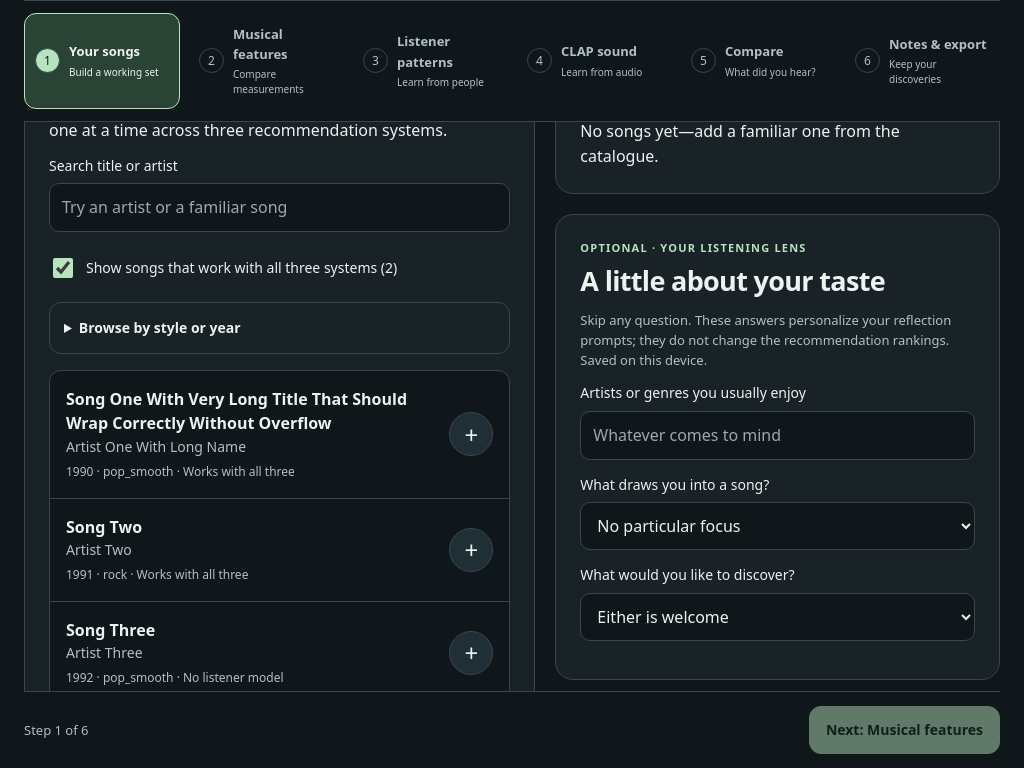
Shared song listening workshop › survey supplies listening prompts without adding ranking preferences
(page scrolled)
Step 1. Click the button named "Add " → [471, 434], box [449,412,493,456]
(page scrolled)
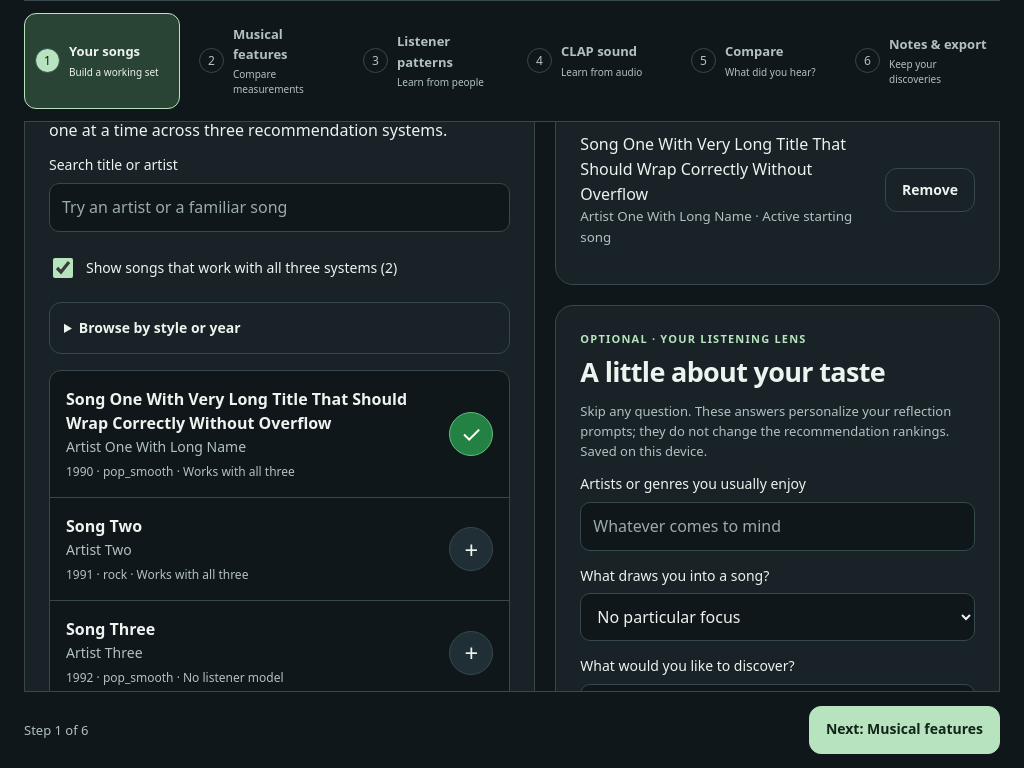
Step 2. Click the button named "Add " → [471, 549], box [449,527,493,571]
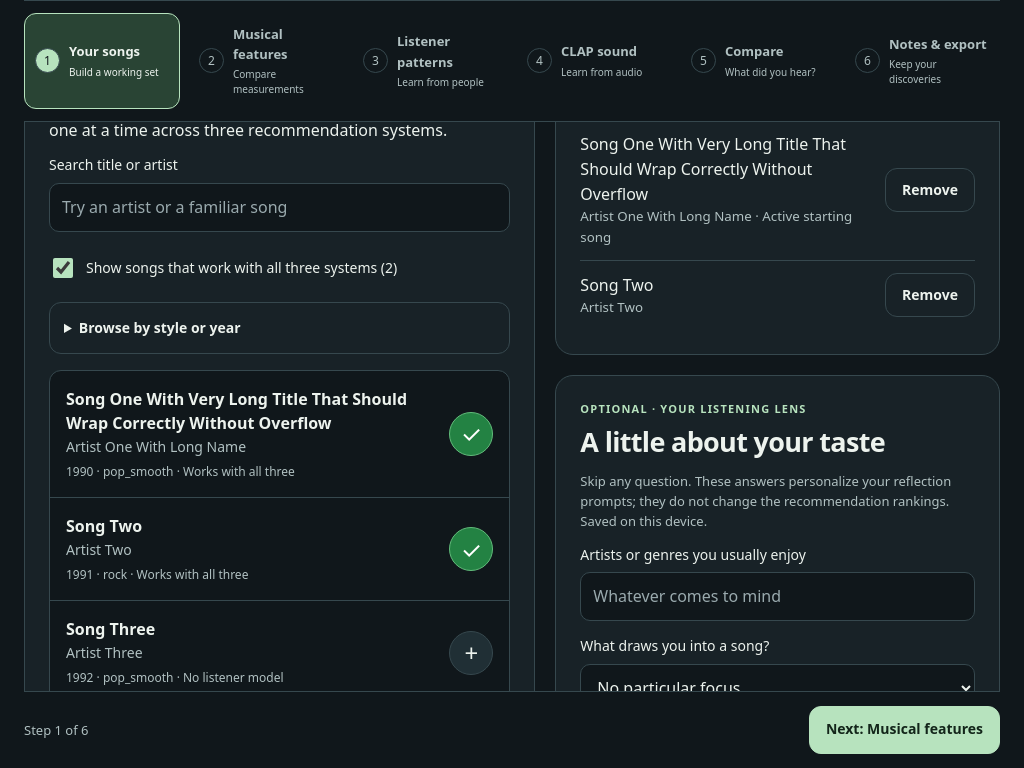
Step 3. Select "Rhythm" in the dropdown labelled "What draws you into a song?" → [778, 688], box [580,664,975,712]
Step 4. Type "Soul" into the field labelled "Artists or genres you usually enjoy" → [778, 597], box [580,572,975,621]
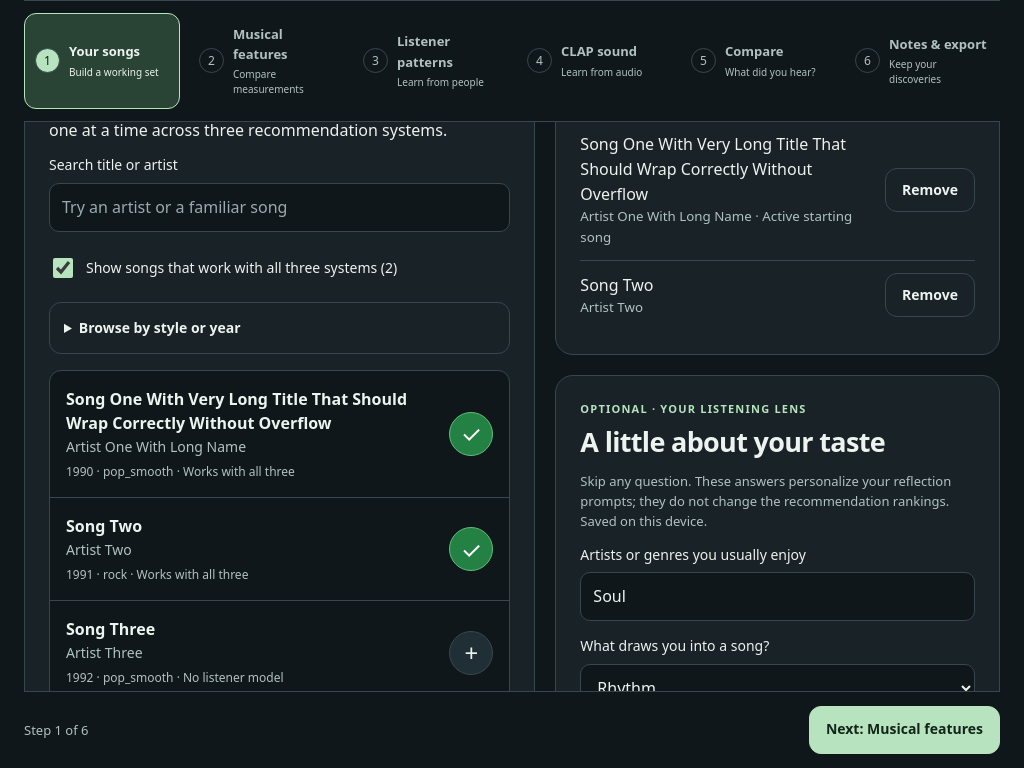
Step 5. Click the button "2 Musical features Compare measurements" → [266, 61], box [188,13,344,109]
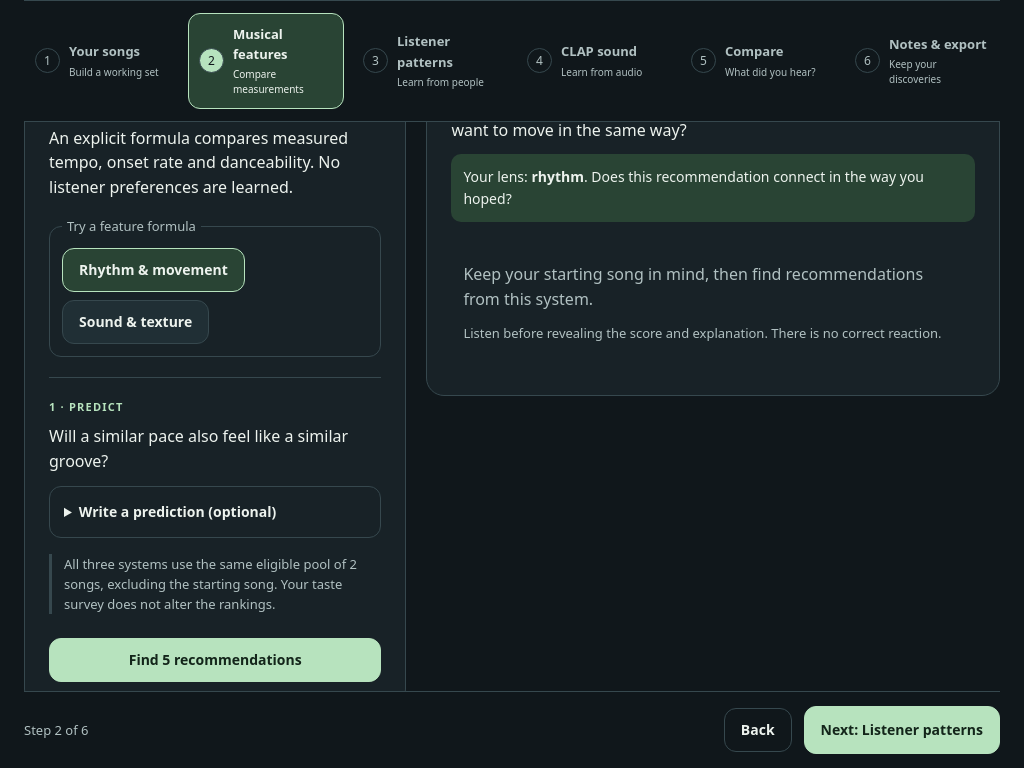
Expected: the text "Your lens:" shows "rhythm", [531,167,584,186]
Expected: the button "Find 5 recommendations" is enabled
Step 6. Click the button "Find 5 recommendations" → [215, 660], box [49,638,381,682]
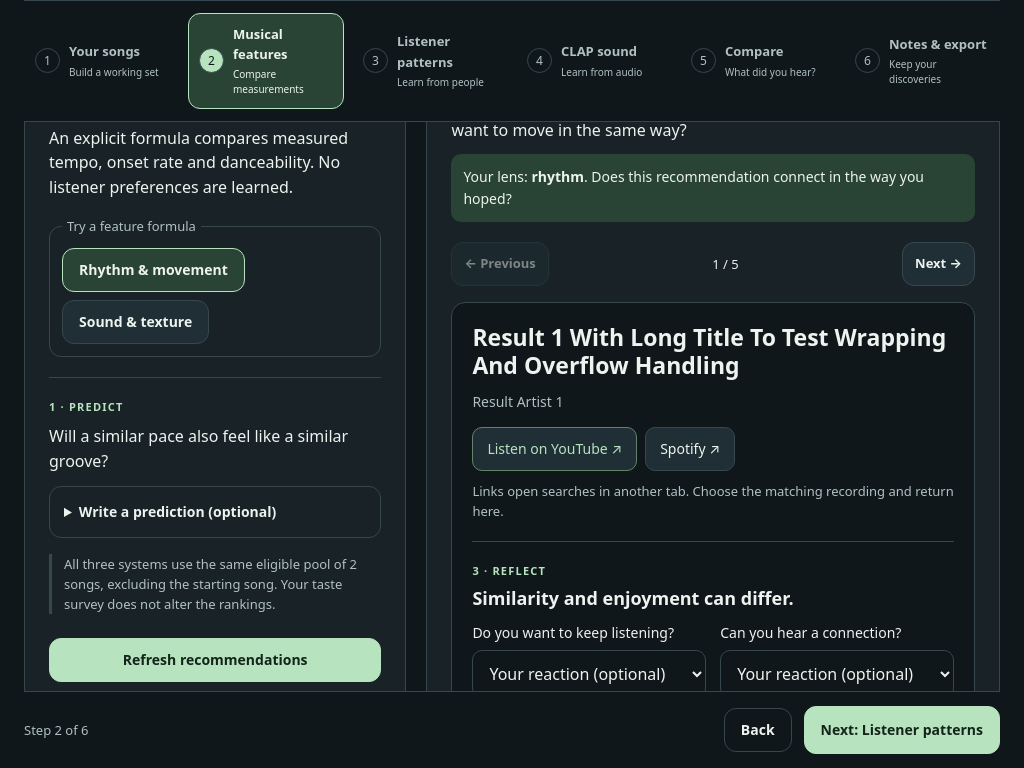
Expected: the heading "Result 1 With Long Title" is shown, [472,323,954,379]
Step 7. Click the button "5 Compare What did you hear?" → [758, 61], box [680,13,836,109]
(page scrolled)
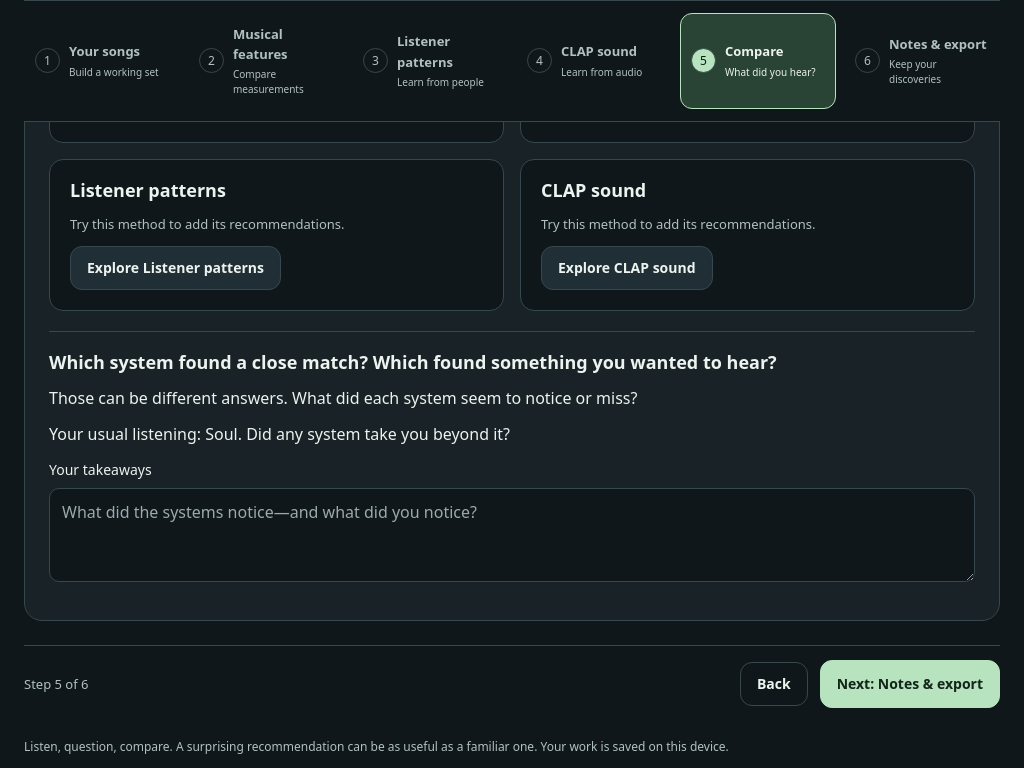
Expected: the text "Your usual listening: Soul" is shown, [49,424,510,446]
